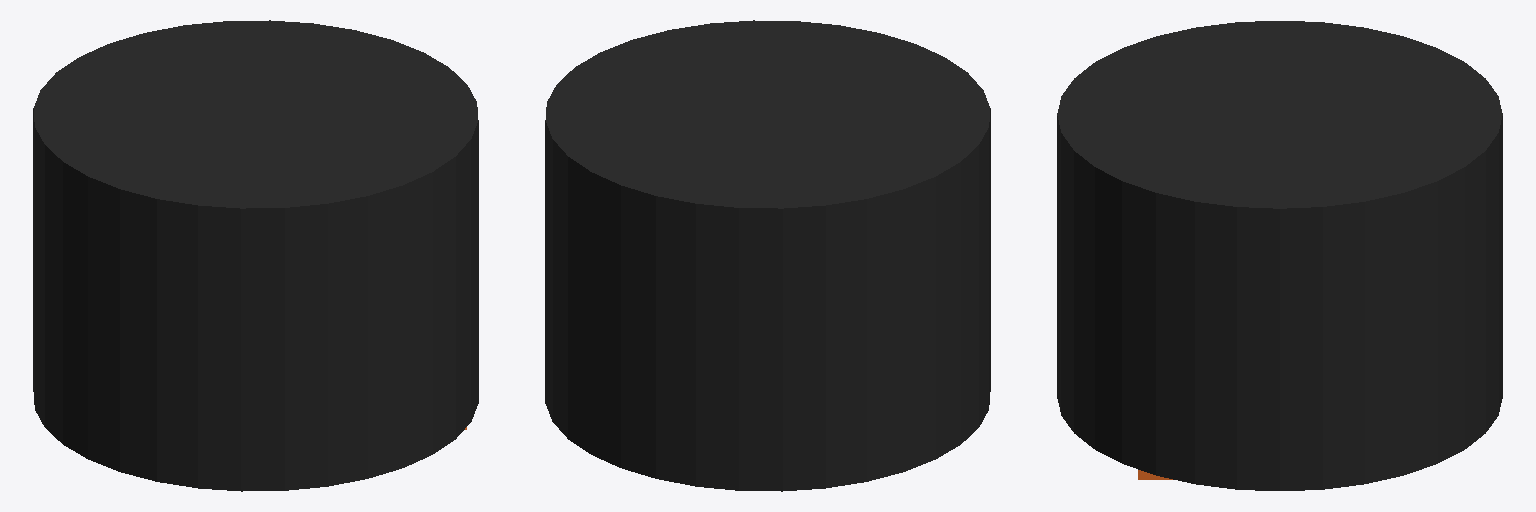
robot.urdf — os1_sensor:
<?xml version="1.0"?>
<!--
  Copyright 2016 The Cartographer Authors

  Licensed under the Apache License, Version 2.0 (the "License");
  you may not use this file except in compliance with the License.
  You may obtain a copy of the License at

       http://www.apache.org/licenses/LICENSE-2.0

  Unless required by applicable law or agreed to in writing, software
  distributed under the License is distributed on an "AS IS" BASIS,
  WITHOUT WARRANTIES OR CONDITIONS OF ANY KIND, either express or implied.
  See the License for the specific language governing permissions and
  limitations under the License.
-->

<robot name="os1_sensor">

  <material name="orange">
    <color rgba="1.0 0.5 0.2 1" />
  </material>
  <material name="gray">
    <color rgba="0.2 0.2 0.2 1" />
  </material>

  <link name="os1_sensor" />
 
  <link name="base_link" />

  <joint name="sensor_link_joint" type="fixed">
    <parent link="base_link" />
    <child link="os1_sensor" />
    <origin xyz="0 0 0" rpy="0 0 0" />
  </joint>

<!-- Published by OS1 -->

<link name="os1_imu">
    <visual>
      <origin xyz="0.0 0.0 0.0" />
      <geometry>
        <box size="0.06 0.04 0.02" />
      </geometry>
      <material name="orange" />
    </visual>
</link>

<link name="os1_lidar">
    <visual>
      <origin xyz="0.0 0.0 0.0" />
      <geometry>
        <cylinder length="0.07" radius="0.05" />
      </geometry>
      <material name="gray" />
    </visual>
</link>

  <joint name="imu_link_joint" type="fixed">
    <parent link="os1_sensor" />
    <child link="os1_imu" />
    <origin xyz="0.006253 -0.011775 0.007645" rpy="0 0 0" />
  </joint>

  <joint name="os1_link_joint" type="fixed">
    <parent link="os1_sensor" />
    <child link="os1_lidar" />
    <origin xyz="0.0 0.0 0.03618" rpy="0 0 3.14159" />
  </joint>


</robot>

--- Facts derived from the render (not from the file) ---
Views: 3 orthographic renders of the robot side by side, from view 1: azimuth 30°, elevation 25°; view 2: azimuth 150°, elevation 25°; view 3: azimuth 270°, elevation 25°.
Model os1_sensor with 4 links and 3 joints (3 fixed), rooted at base_link, posed all joints at 0.
Visible links, largest first — view 1: os1_lidar; view 2: os1_lidar; view 3: os1_lidar.
Boxes of the visible links, left/top/right/bottom form: os1_lidar: left=33, top=20, right=478, bottom=491; os1_lidar: left=545, top=20, right=990, bottom=491; os1_lidar: left=1057, top=21, right=1502, bottom=490.
Size in the robot's own frame: 0.1 by 0.1 by 0.0735 metres.
Geometry: primitives only (box / cylinder / sphere), no mesh files.